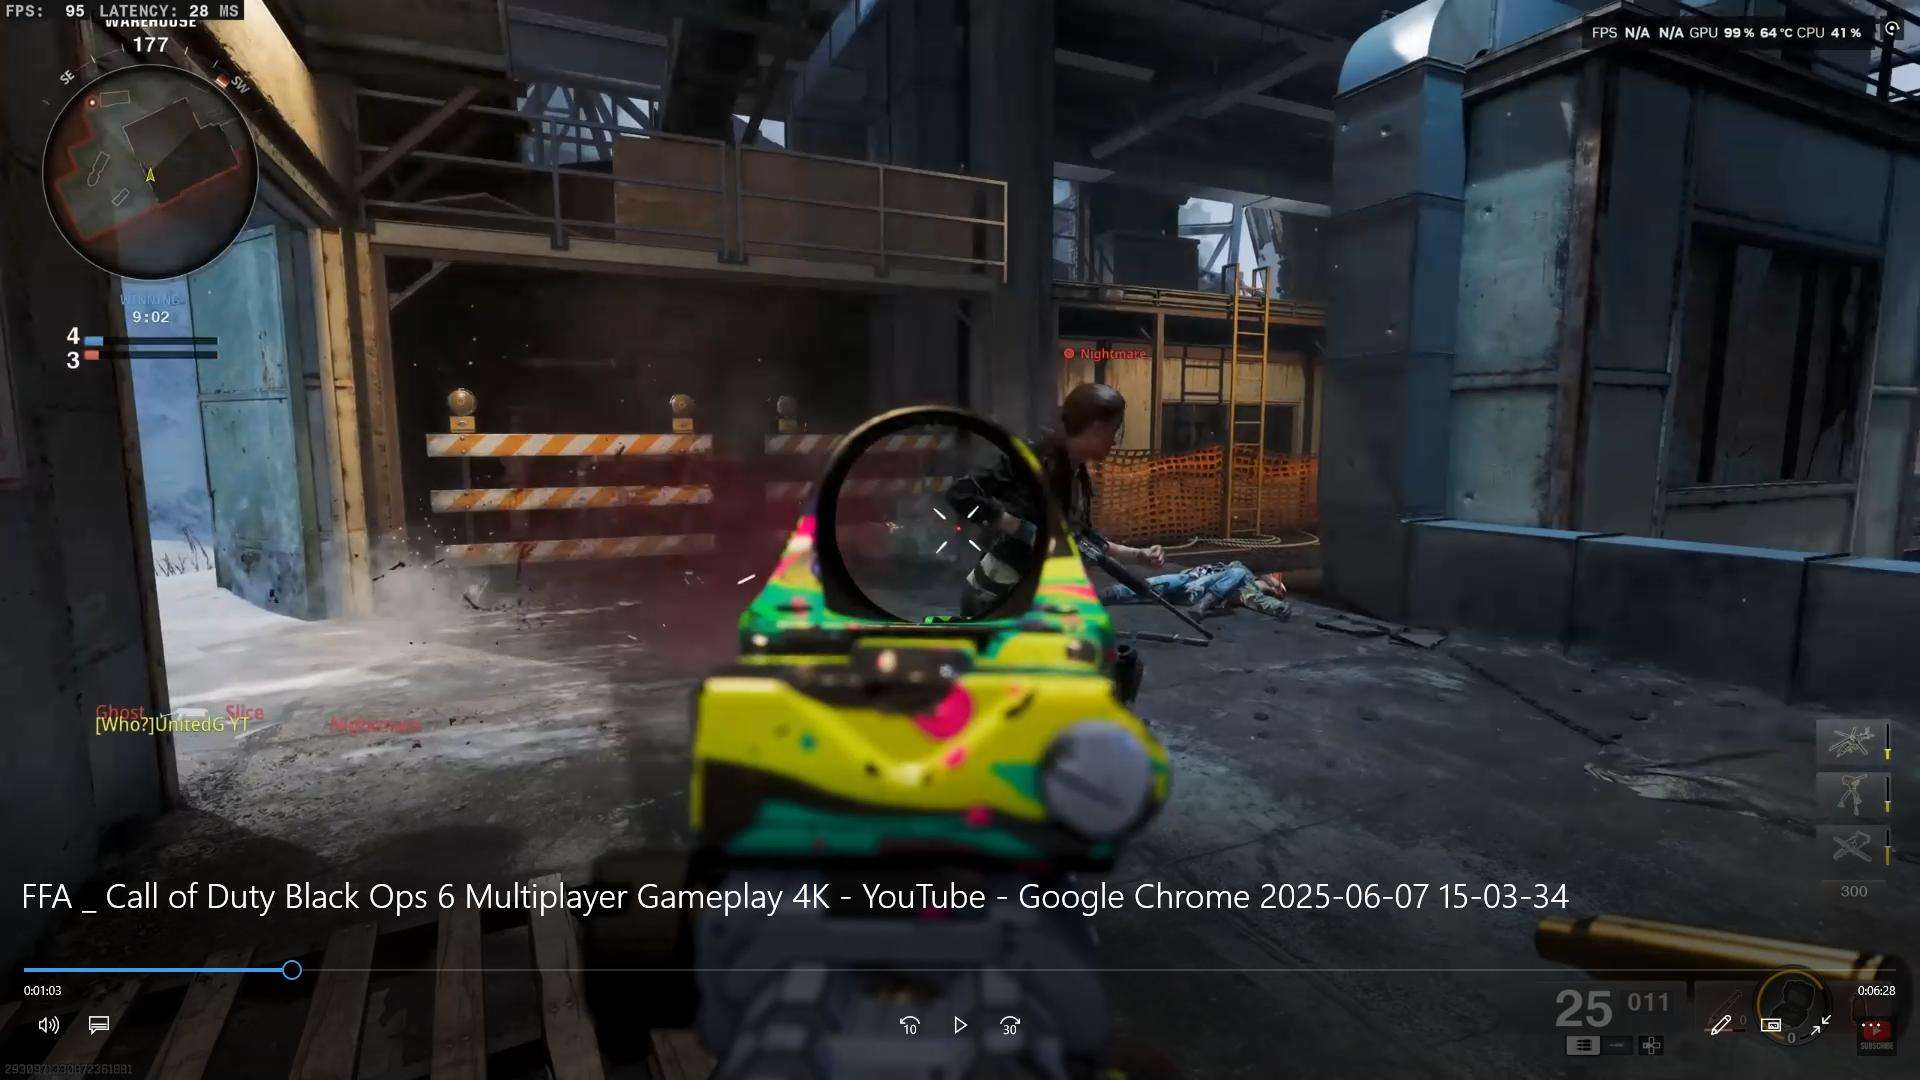Enemy: (1015, 367, 1142, 533)
